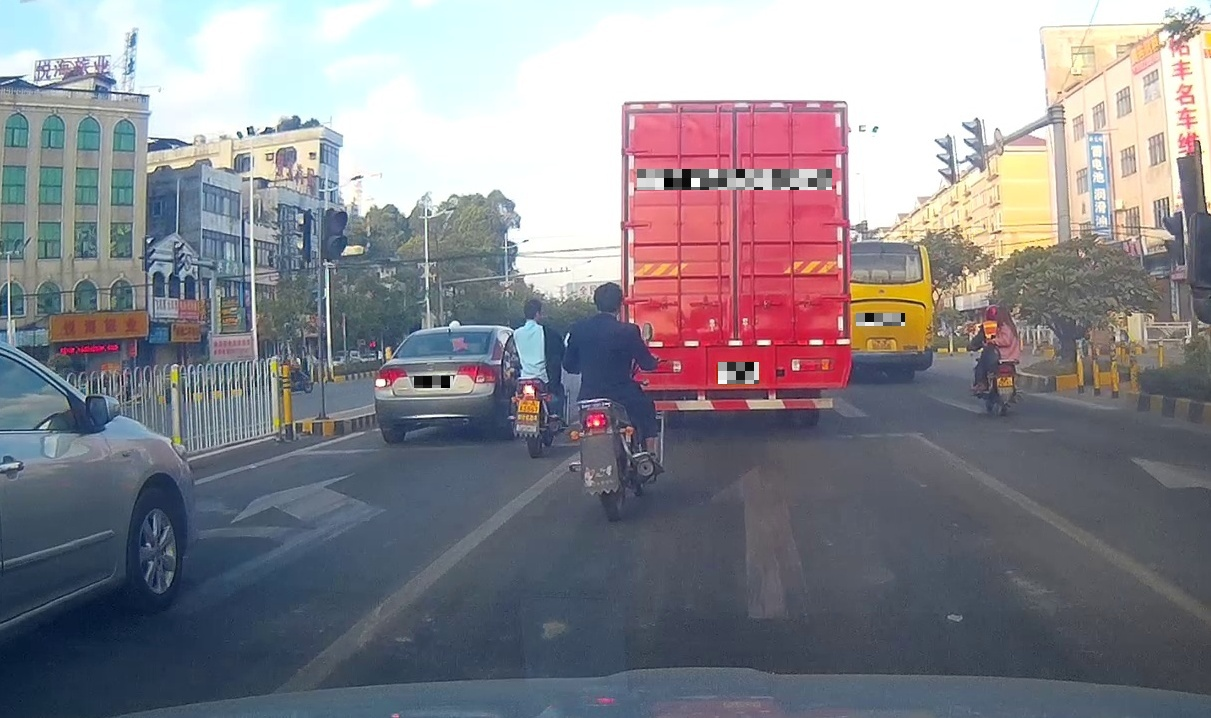L_light: (374, 368, 407, 387), (640, 360, 682, 374)
R_light: (458, 363, 498, 384), (791, 358, 835, 373)
T_light: (721, 109, 750, 122), (435, 333, 459, 340)
day-brake: (373, 325, 502, 444)
day-no: (621, 100, 851, 427)
plate_1: (414, 376, 453, 388)
plate_2: (637, 169, 832, 190)
plate_3: (718, 362, 759, 384)
plate_4: (856, 313, 905, 326)
